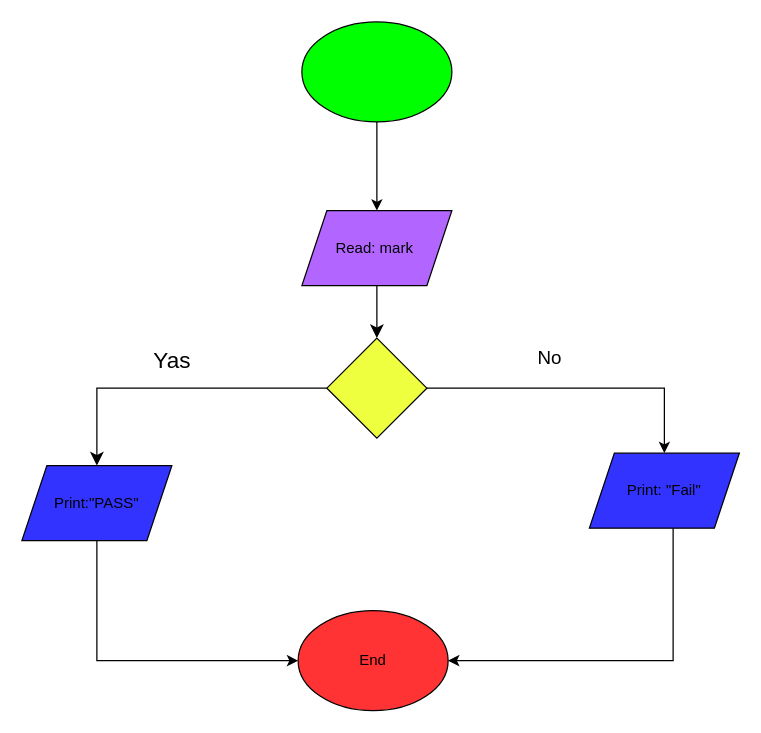
Some shapes in this 761 by 733 pixel diagram are drawn without their labels. The shapes that lost their labels are listed below. From the top down, each one's centre as x and y in pixels, then its label:
At point 376,71: "Start".
At point 376,387: "mark >= 50".
